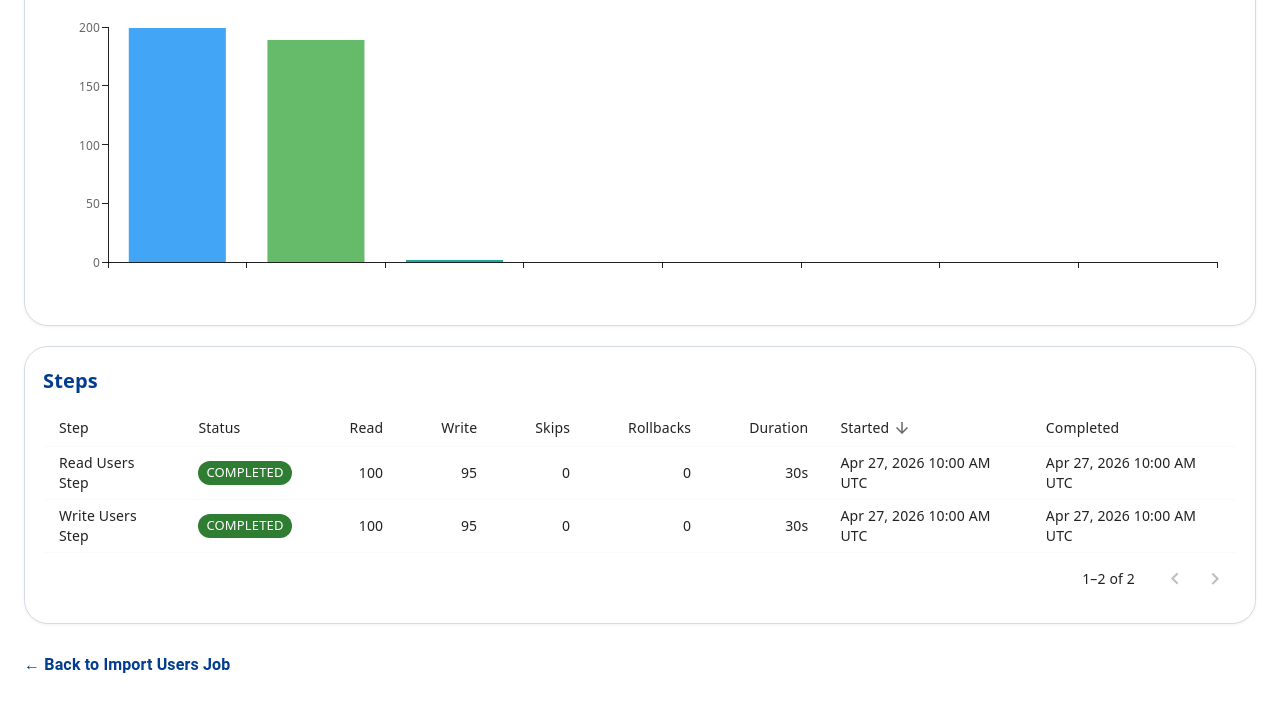
Test case: JobExecutionPage › opens the step detail modal when a step row is clicked
The width and height of the screenshot is (1280, 709).
(page scrolled)
Click the row that starts with "Read Users Step" at (640, 473), box x1=43 y1=446 x2=1237 y2=499
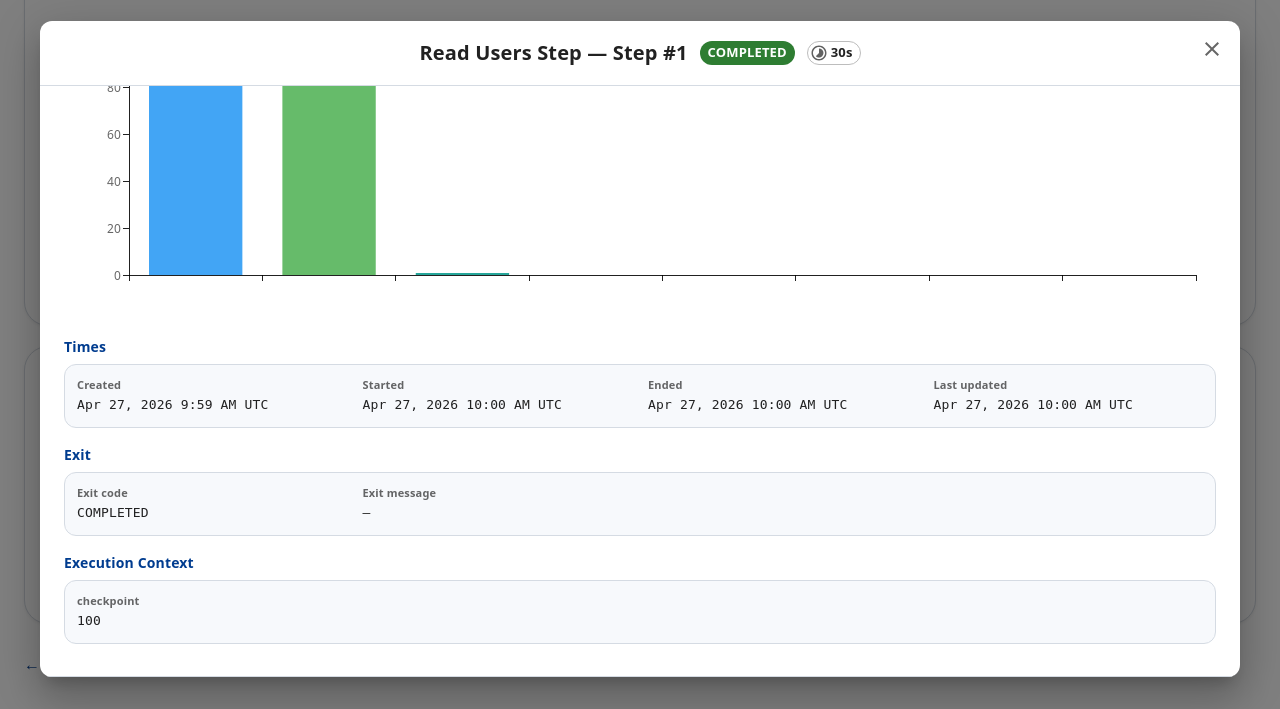
Now the text "Read Users Step — Step #1" is shown, box x1=419 y1=37 x2=688 y2=69
Now the heading "Execution Context" is shown, box x1=64 y1=553 x2=194 y2=572
Now the text "checkpoint" is shown, box x1=77 y1=593 x2=140 y2=608
